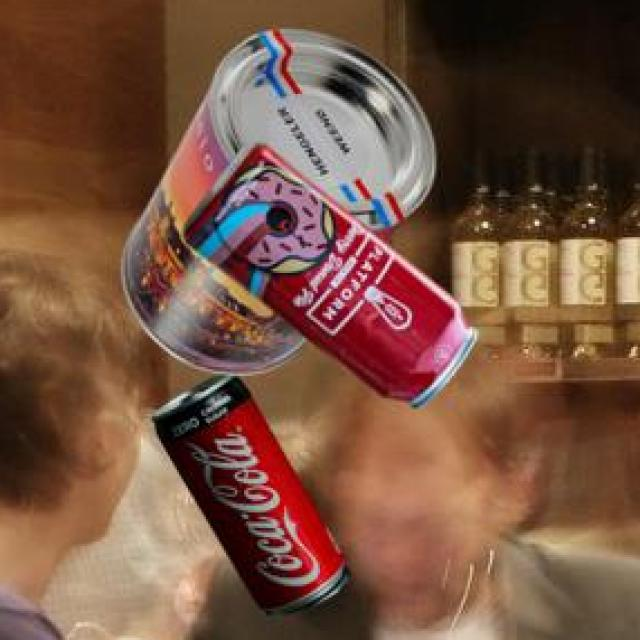logam: (120, 26, 431, 373), (180, 140, 473, 404), (149, 370, 348, 612)
